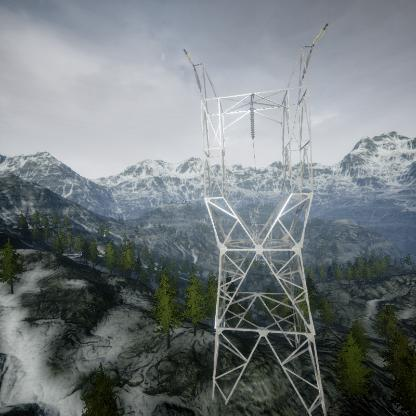insulator: (250, 109, 257, 141)
tower: (179, 23, 343, 415)
